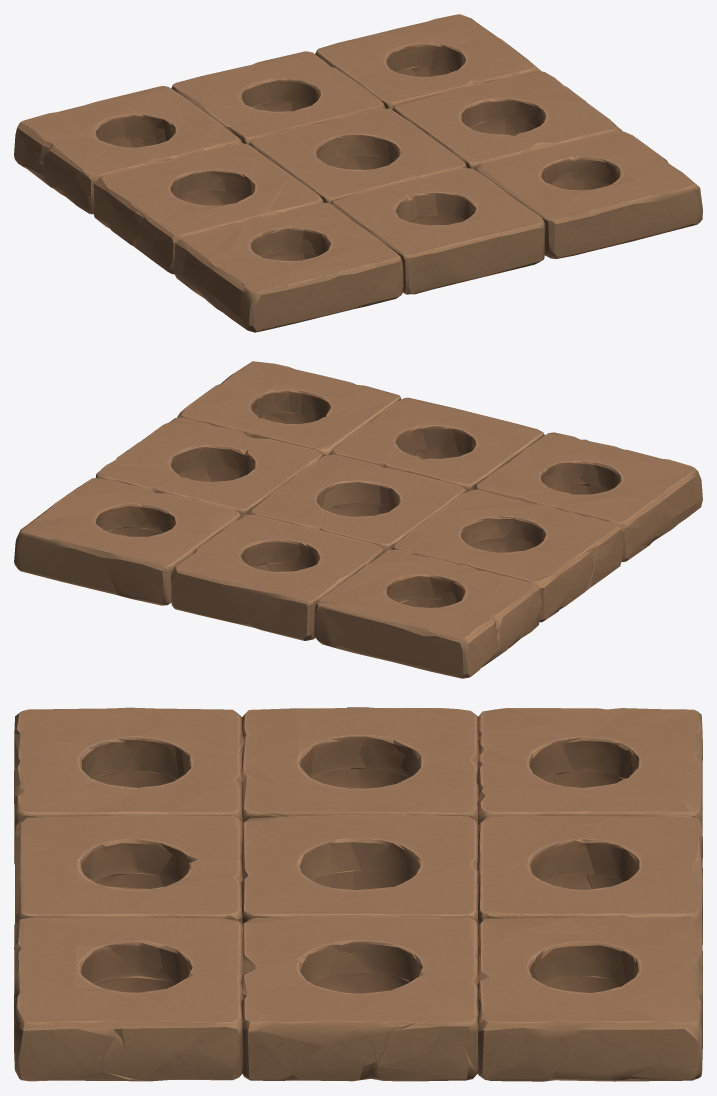
The model's file is spike_tile.glb.
3 views of the same model, one above another, from view 1: azimuth 30°, elevation 25°; view 2: azimuth 150°, elevation 25°; view 3: azimuth 270°, elevation 25° (orthographic). The views are drawn at different scales.
Visible parts, largest first — view 1: output_unwrapped; view 2: output_unwrapped; view 3: output_unwrapped.
Boxes of the visible parts, box(x1,y1,x2,y2) form: output_unwrapped: box(14, 14, 702, 332); output_unwrapped: box(14, 361, 702, 678); output_unwrapped: box(14, 707, 702, 1081).
Bounding box in the file's own units: 1.9 × 0.1652 × 1.72.
1 material, 1 textured.
